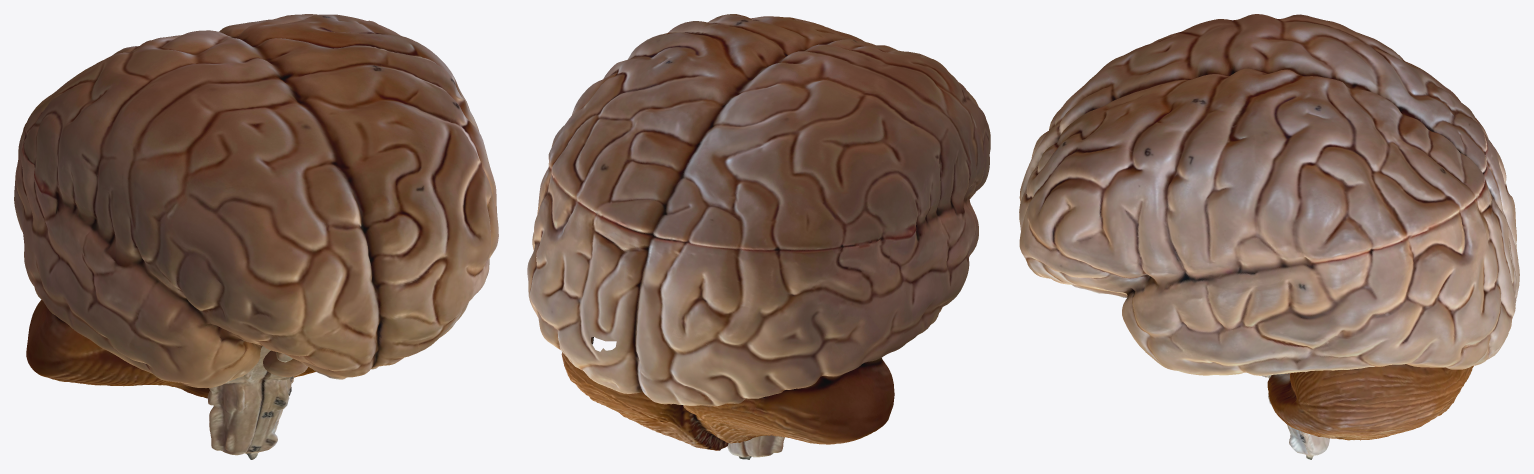
Rendered from full_human_brain_model_-_basic.glb.
The picture shows the model from 3 angles, left to right: view 1: azimuth 30°, elevation 25°; view 2: azimuth 150°, elevation 25°; view 3: azimuth 270°, elevation 25°; orthographic projection. The views are drawn at different scales.
Parts seen in each view (by area): view 1: Object_4; view 2: Object_4; view 3: Object_4.
Boxes of the visible parts, x1,y1,x2,y2 form: Object_4: (14,14,498,459); Object_4: (527,14,990,459); Object_4: (1019,14,1519,459).
Size of the model in its own units: 0.5941 by 0.6307 by 0.7214.
1 material, 1 textured.
